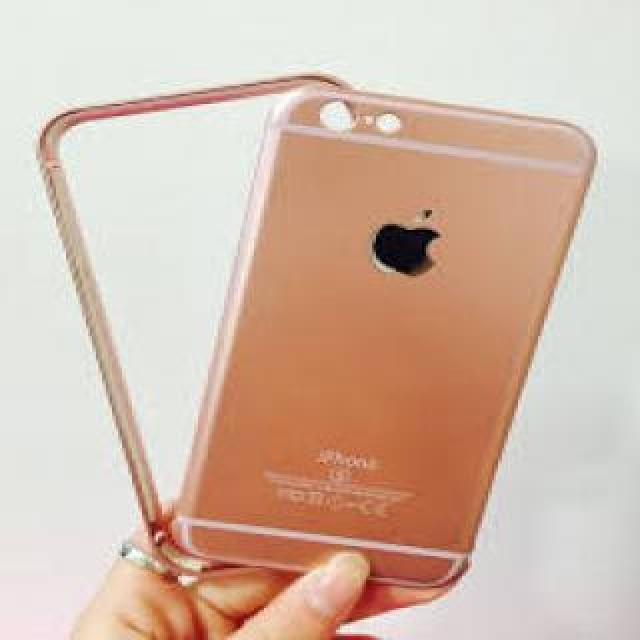smart phone: (162, 58, 604, 640)
